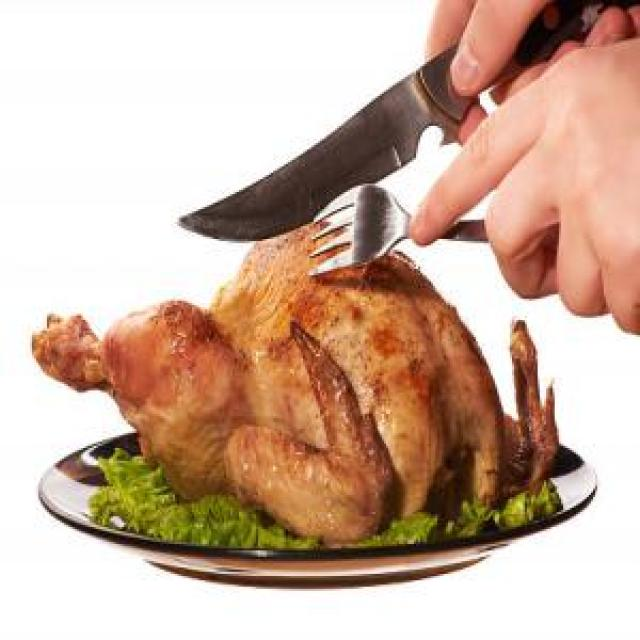knife: (173, 0, 584, 282)
